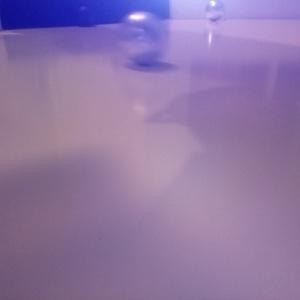alive_ball: (117, 12, 167, 64), (205, 1, 225, 21)
dead_ball: (75, 4, 96, 26)
